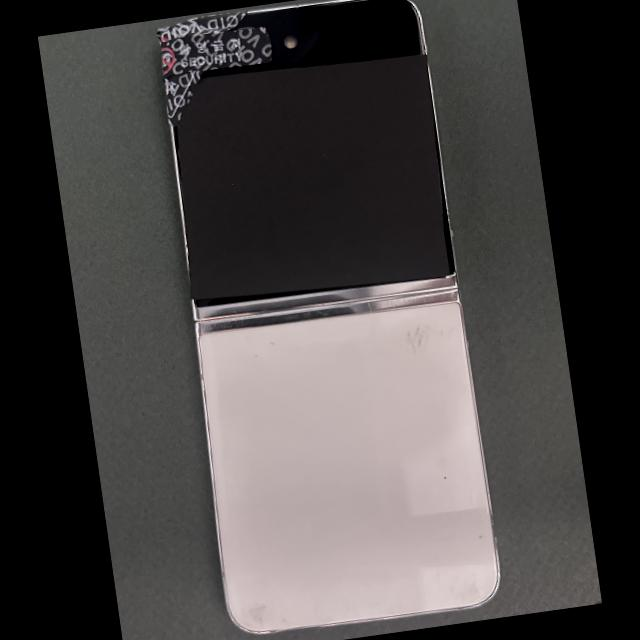phone: (161, 0, 502, 635)
sticker: (161, 26, 272, 82), (157, 11, 248, 44)
